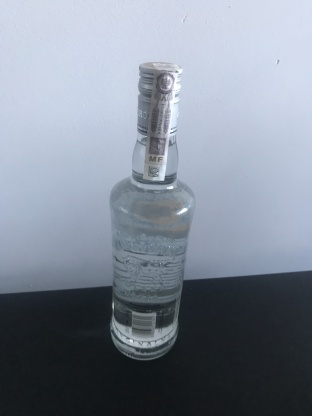nakretka: (134, 57, 183, 137)
